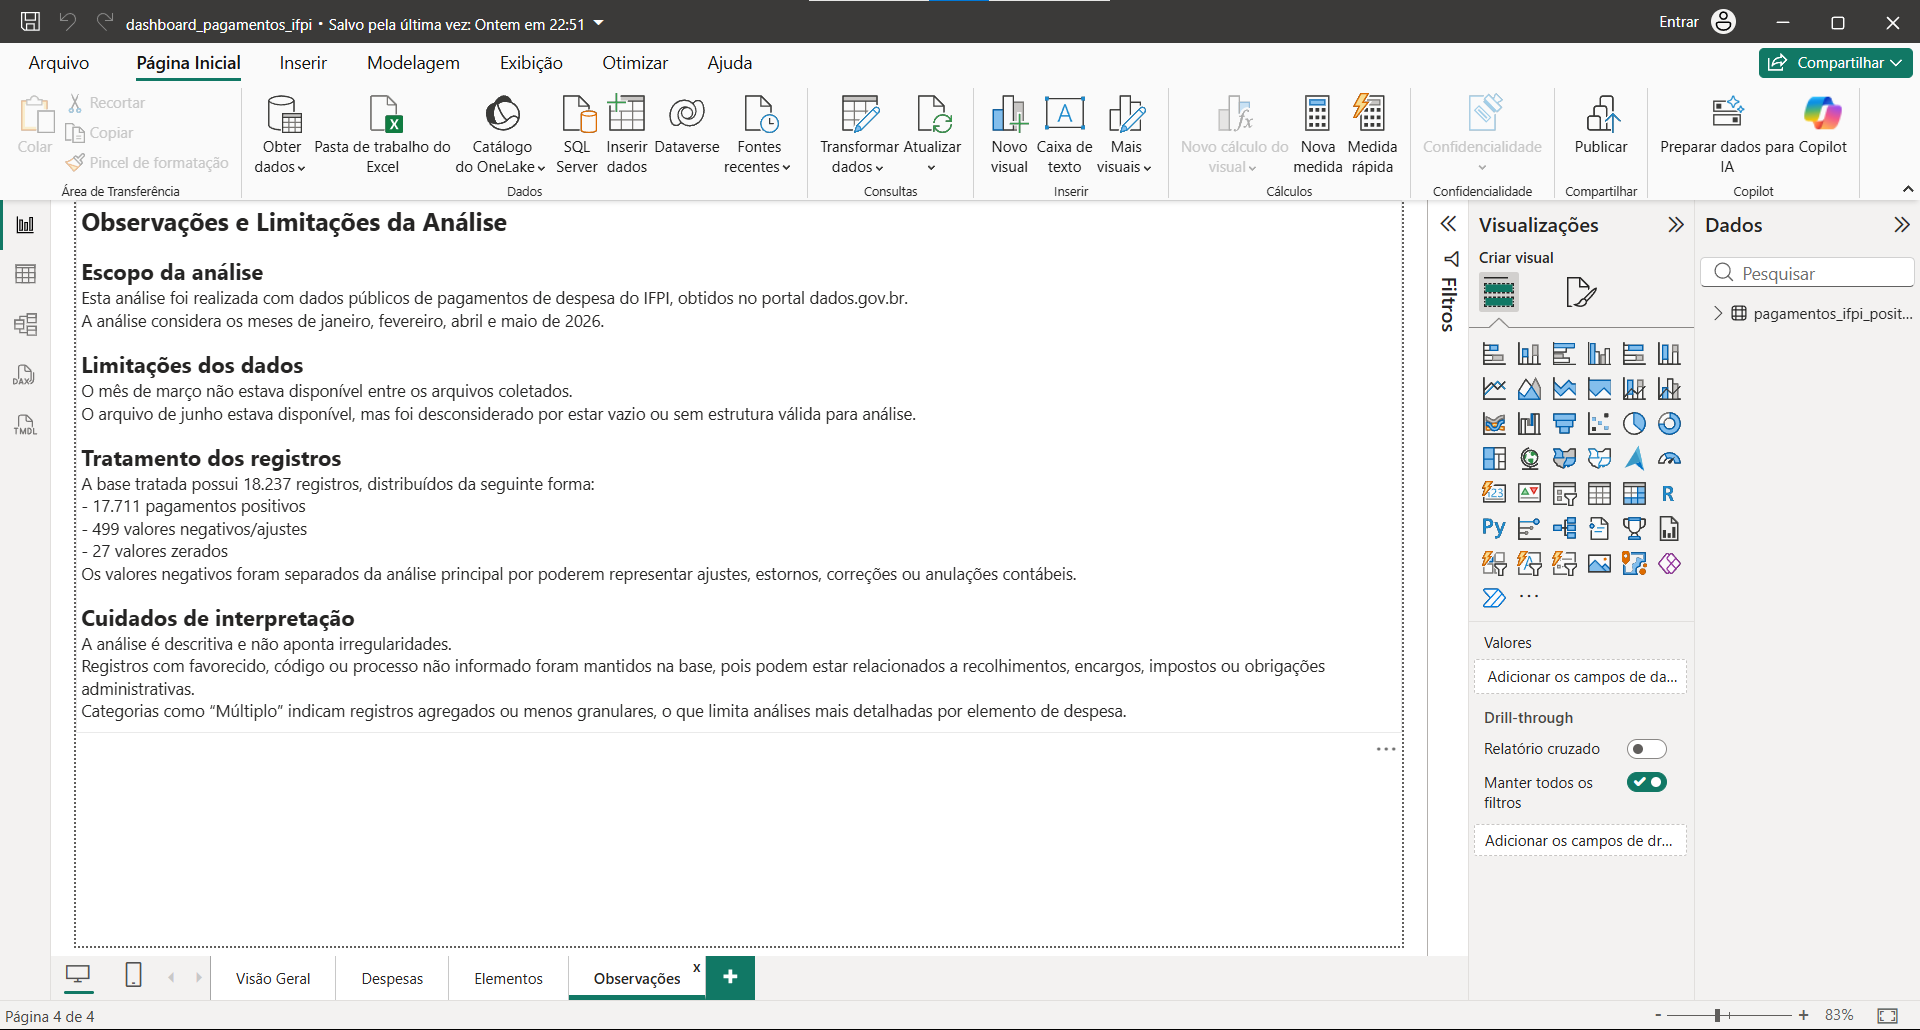

The dashboard page shown, as its layout file describes it:
{"tool":"powerbi","page":{"name":"Observações","canvas":[1280,720],"ordinal":3},"visuals":[{"type":"textbox","box":[0,0,1280,513.9],"z":0}]}

Visuals, with their boxes on the page's 1280x720 design canvas (x1, y1, x2, y2). These are canvas units, not pixel positions in the 1920x1030 screenshot, which may show the page scaled, cropped or inside an application window:
textbox: (x1=0, y1=0, x2=1280, y2=514)
